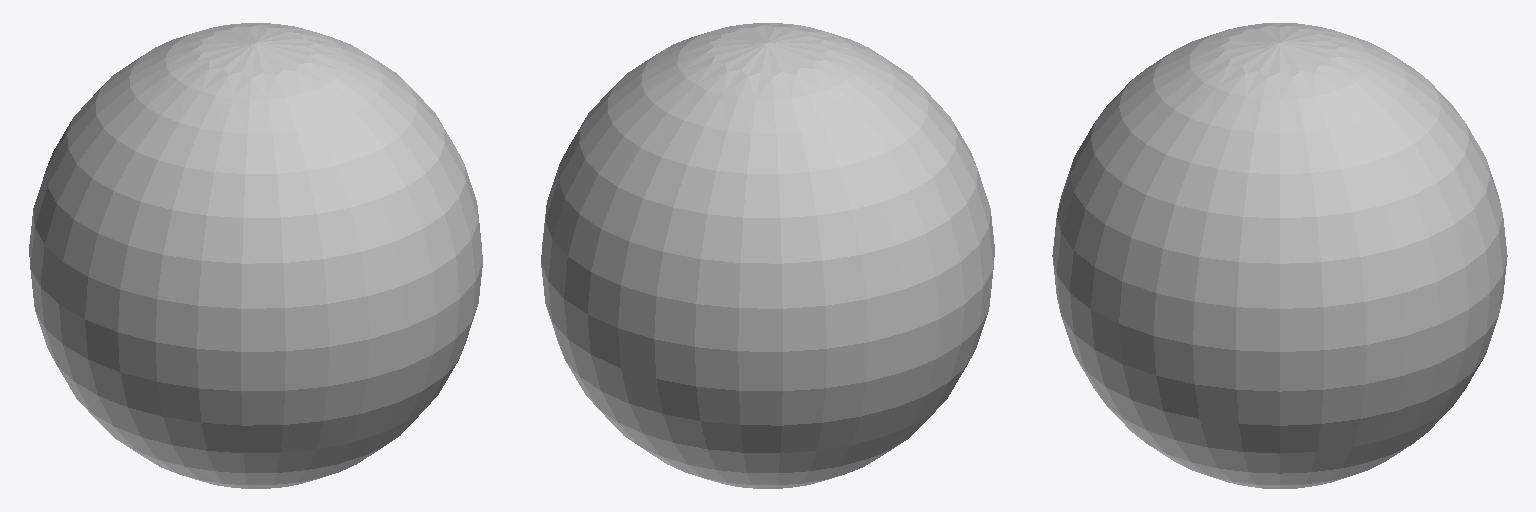
File: mercury.obj
The picture shows the model from 3 angles: view 1: azimuth 30°, elevation 25°; view 2: azimuth 150°, elevation 25°; view 3: azimuth 270°, elevation 25°; orthographic projection.
Parts seen in each view (by area): view 1: Sphere; view 2: Sphere; view 3: Sphere.
Part boxes in pixels (x1,y1,x2,y2): Sphere: (29,23,482,488); Sphere: (541,23,994,488); Sphere: (1052,23,1507,488).
Size of the model in its own units: 94.99 by 98.31 by 94.99.